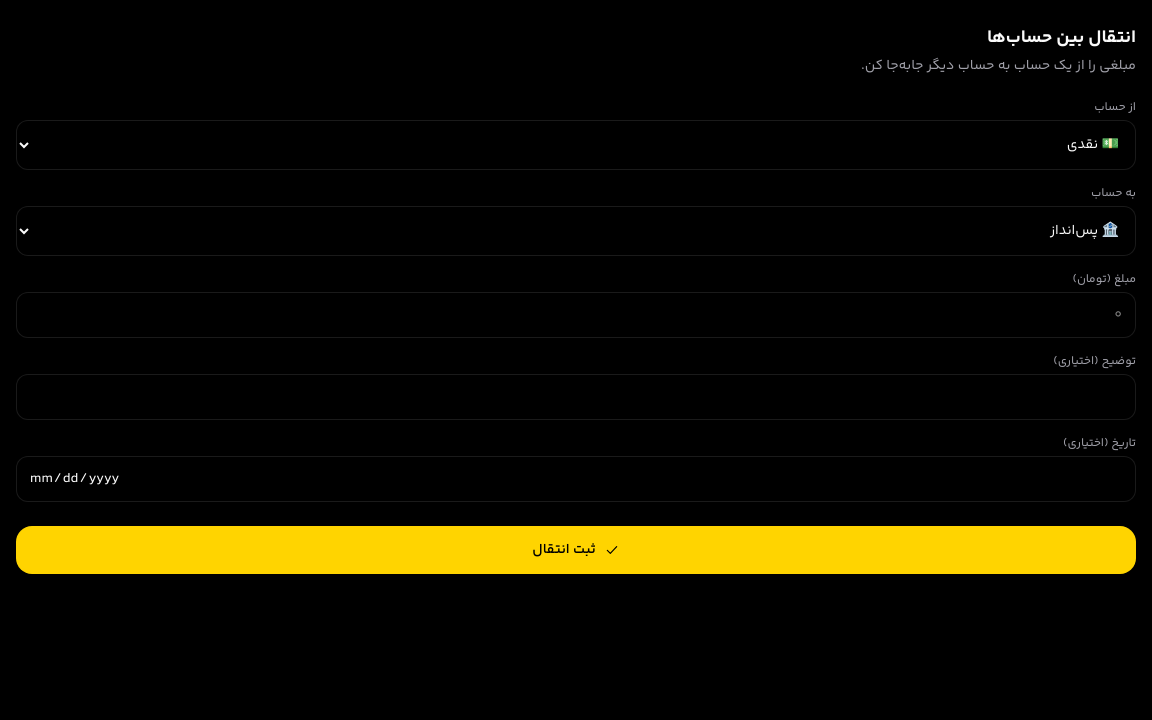
it: TransferForm - happy path submit › shows the server's error message and does not navigate when the request fails
The width and height of the screenshot is (1152, 720).
In the field with placeholder "۰": (576, 315) [16,292,1136,338], type "50000"
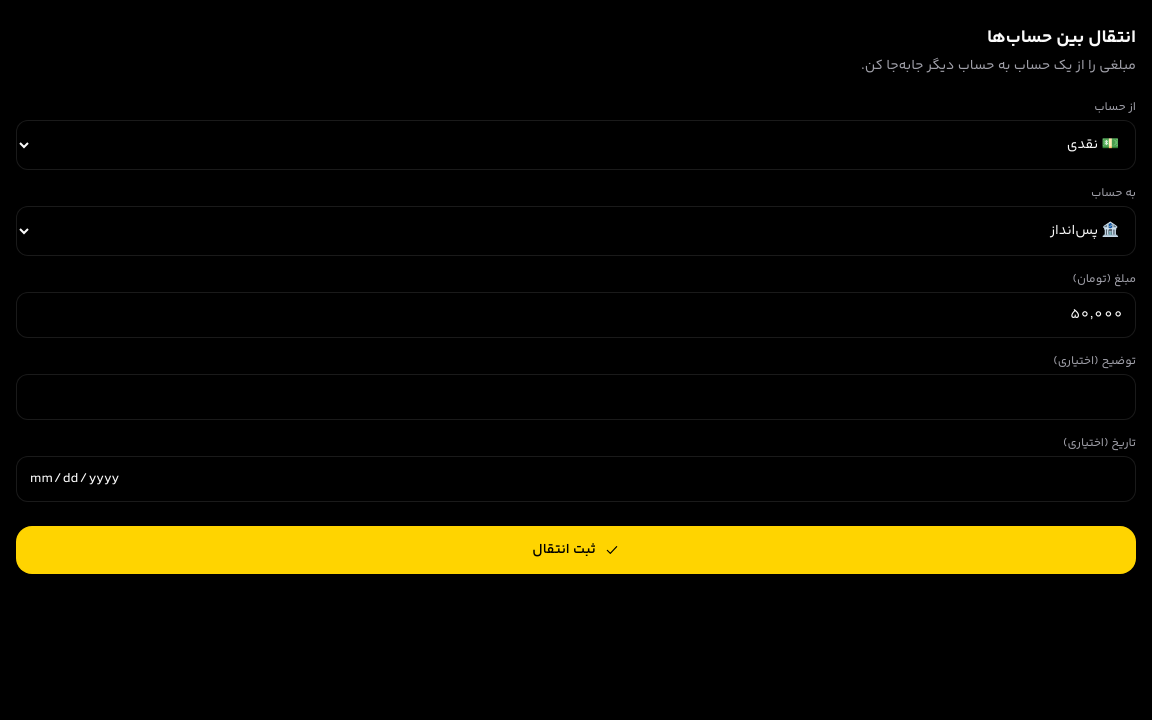
Click the button "ثبت انتقال": (576, 550) [16,526,1136,574]
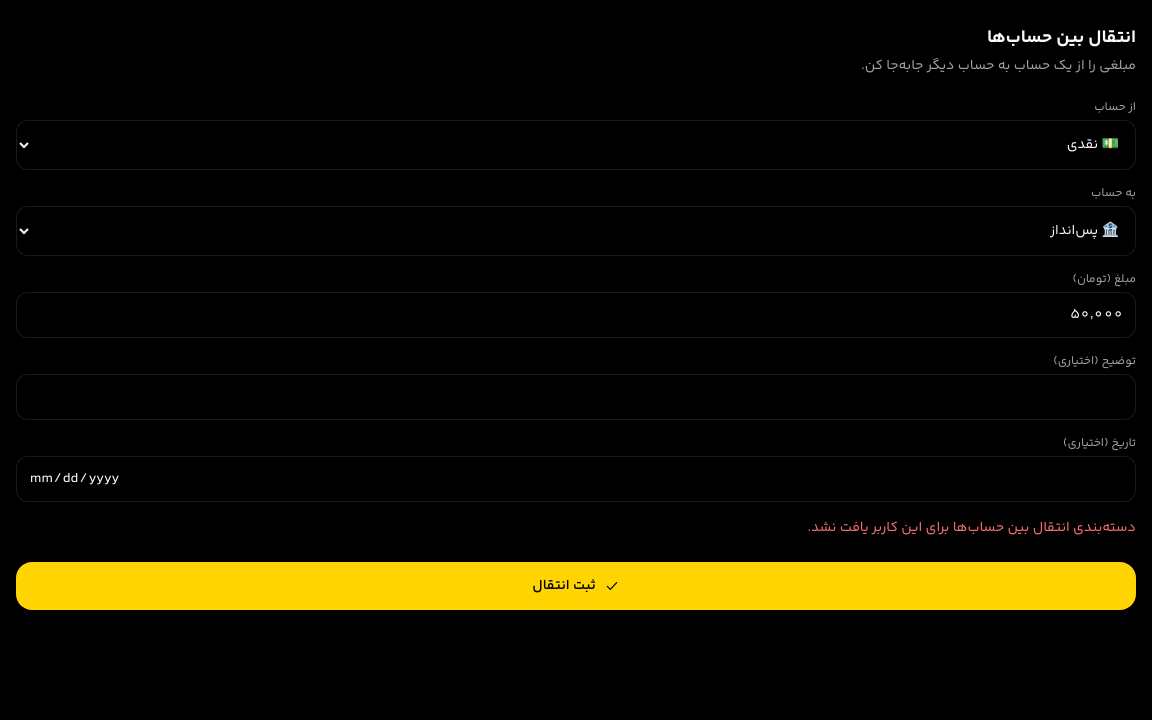
Expected: the text "دسته‌بندی انتقال بین حساب‌ها برای این کاربر یافت نشد." is shown, [808,517,1136,539]
